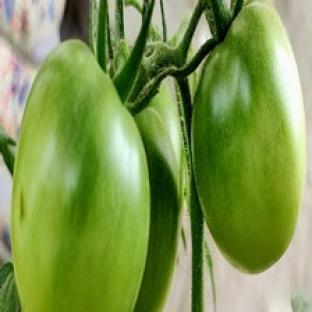Tomato: (12, 41, 150, 311), (134, 84, 182, 311)
